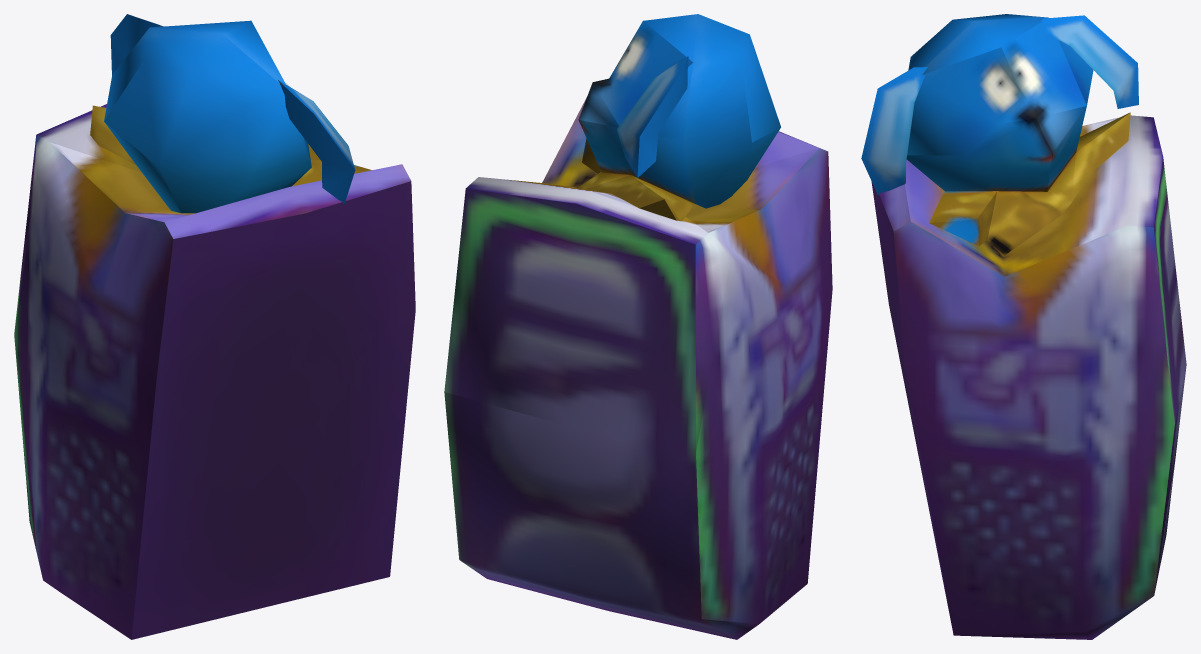
The model's file is tt_m_chr_avt_acc_pac_stuffedAnimalBackpackDog.glb.
3 renders of one model, left to right at view 1: azimuth 30°, elevation 25°; view 2: azimuth 150°, elevation 25°; view 3: azimuth 270°, elevation 25°, orthographic. The views are drawn at different scales.
Visible parts, largest first — view 1: tt_m_chr_avt_acc_pac_stuffedAnimalBackpackColor3; view 2: tt_m_chr_avt_acc_pac_stuffedAnimalBackpackColor3; view 3: tt_m_chr_avt_acc_pac_stuffedAnimalBackpackColor3.
Boxes of the visible parts, x1,y1,x2,y2 form: tt_m_chr_avt_acc_pac_stuffedAnimalBackpackColor3: (14,14,415,639); tt_m_chr_avt_acc_pac_stuffedAnimalBackpackColor3: (444,14,832,639); tt_m_chr_avt_acc_pac_stuffedAnimalBackpackColor3: (861,14,1186,639).
Size of the model in its own units: 2.59 by 4.69 by 2.53.
1 material, 1 textured.
